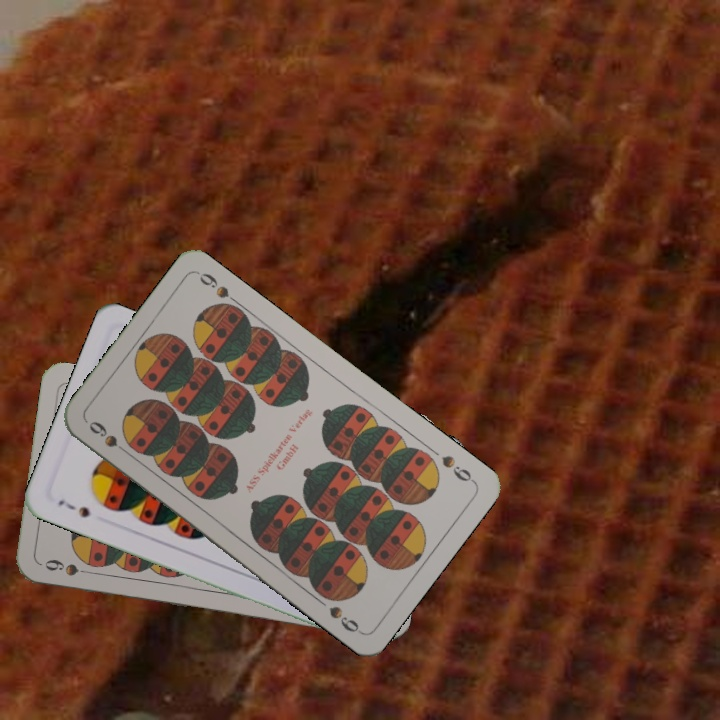S7: (54, 496, 93, 521)
S9: (84, 416, 134, 459), (437, 451, 478, 486), (40, 555, 98, 579)
